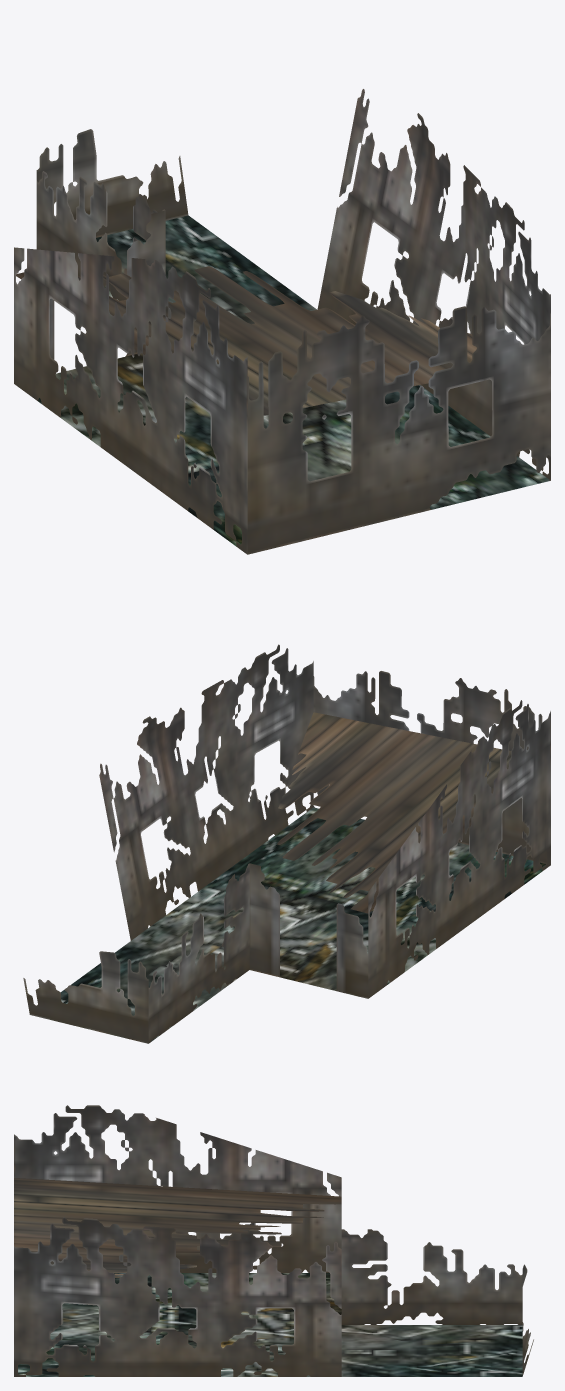
Rendered from 2storycivliving_dam.glb.
3 views of the same model, one above another, from view 1: azimuth 30°, elevation 25°; view 2: azimuth 150°, elevation 25°; view 3: azimuth 270°, elevation 25° (orthographic). The views are drawn at different scales.
Visible parts, largest first — view 1: Box01; view 2: Box01; view 3: Box01.
Part boxes in pixels (x1,y1,x2,y2): Box01: (14,89,550,554); Box01: (23,644,550,1043); Box01: (14,1105,533,1376).
Bounding box in the file's own units: 6.93 × 5.27 × 12.77.
2 materials, 2 textured.
